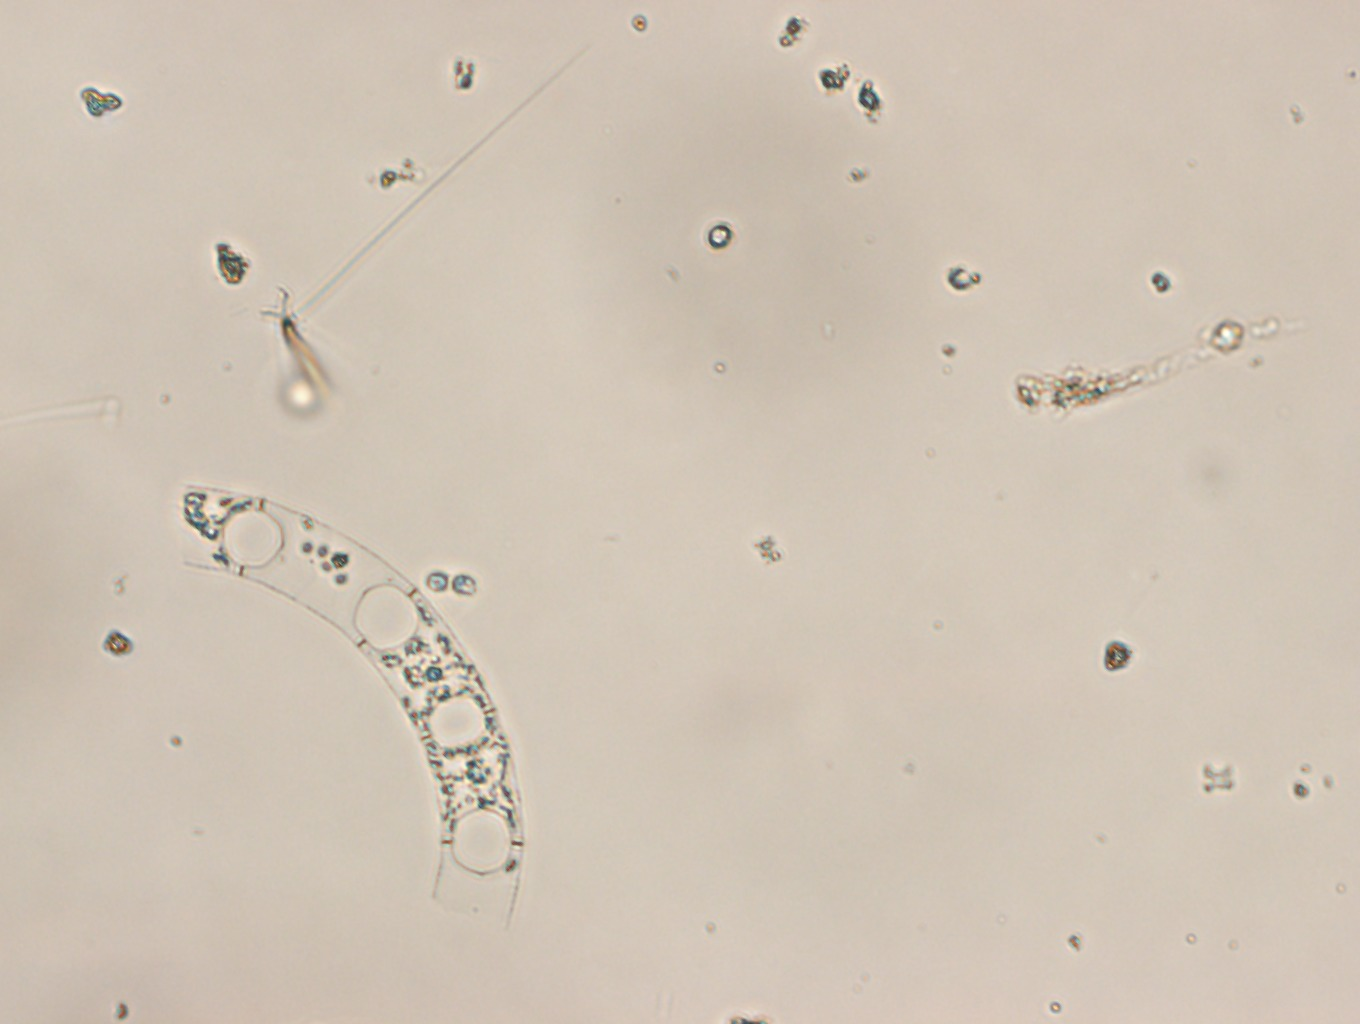eucampia: (175, 481, 525, 924)
